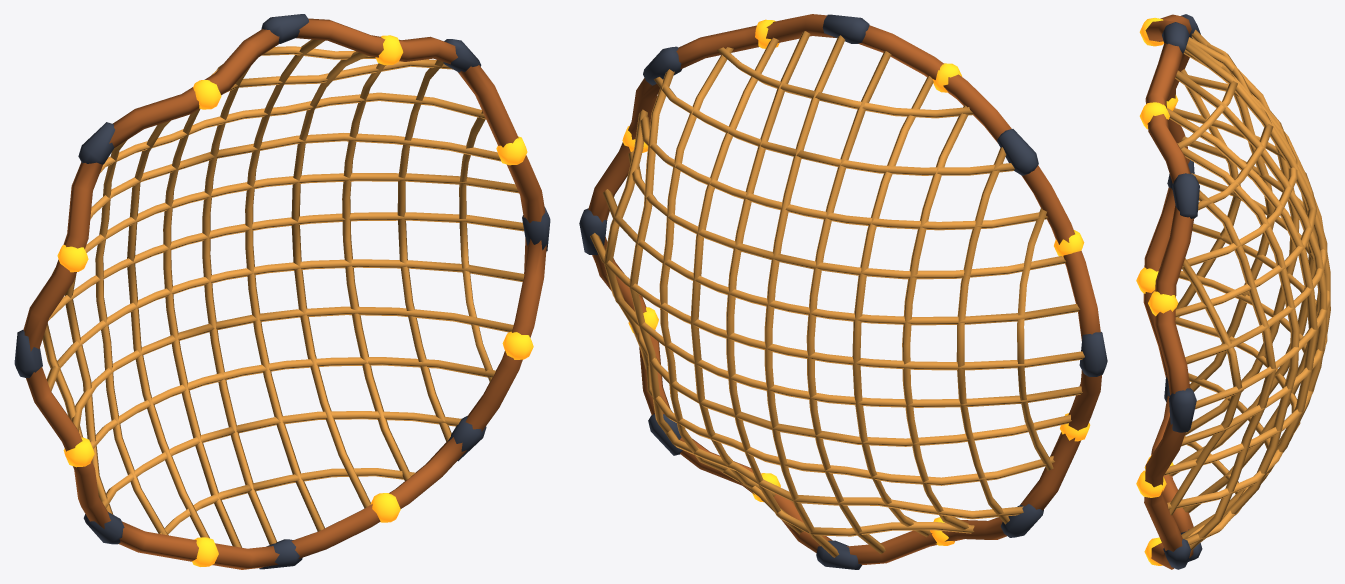
The model's file is thrown-net.glb.
3 views of the same model, side by side, from view 1: azimuth 30°, elevation 25°; view 2: azimuth 150°, elevation 25°; view 3: azimuth 270°, elevation 25° (orthographic). The views are drawn at different scales.
Visible parts, largest first — view 1: Thrown net Net braided cord, Thrown net Net rim rope, Thrown net Net lead weight, Thrown net Net float glow; view 2: Thrown net Net braided cord, Thrown net Net rim rope, Thrown net Net lead weight, Thrown net Net float glow; view 3: Thrown net Net braided cord, Thrown net Net rim rope, Thrown net Net lead weight, Thrown net Net float glow.
Boxes of the visible parts, x1,y1,x2,y2 form: Thrown net Net braided cord: (42,39,524,547); Thrown net Net rim rope: (23,18,546,569); Thrown net Net lead weight: (14,14,550,569); Thrown net Net float glow: (57,35,533,566); Thrown net Net braided cord: (590,31,1084,557); Thrown net Net rim rope: (588,14,1101,565); Thrown net Net lead weight: (579,14,1107,569); Thrown net Net float glow: (622,19,1090,545); Thrown net Net braided cord: (1158,29,1330,550); Thrown net Net rim rope: (1143,14,1194,569); Thrown net Net lead weight: (1162,14,1202,569); Thrown net Net float glow: (1136,18,1178,565).
Size of the model in its own units: 2.75 by 2.75 by 0.9174.
